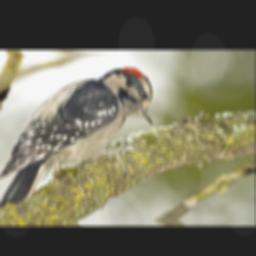Woodpecker: (0, 64, 158, 214)
